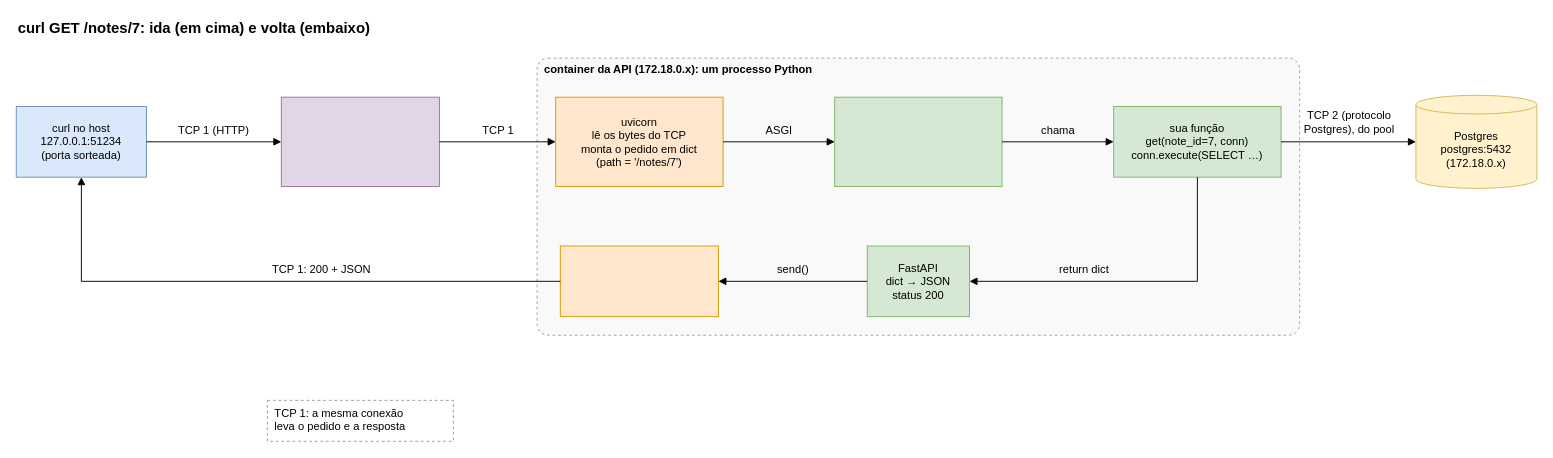
The diagram is 1553 pixels wide and 458 high, and some of its shapes have lost their labels. The shapes that lost their labels are listed below. From the top down, each one's centre as x and y in pixels, then its label:
At [359,141]: "porta 127.0.0.1:8000 do host Docker repassa ao container :8000".
At [918,141]: "FastAPI acha a rota '7' (texto) → 7 (int) roda Depends(get_conn)".
At [638,281]: "uvicorn escreve o texto HTTP no TCP".
